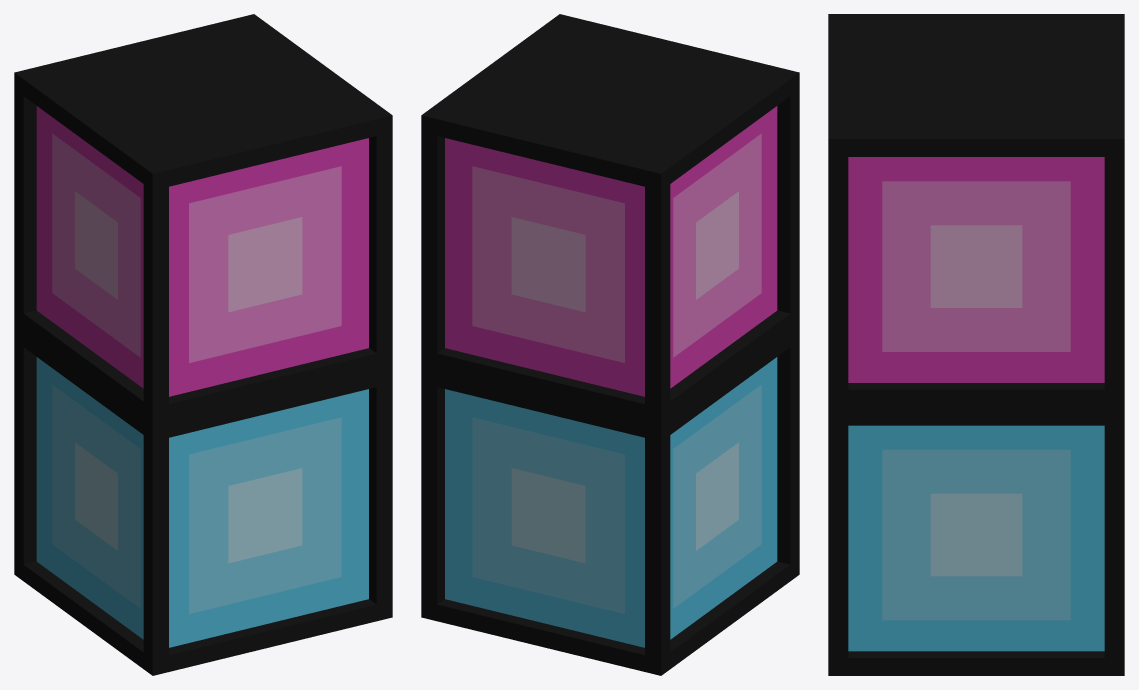
File: Nightclub_LightBox.fbx
3 renders of one model, left to right at view 1: azimuth 30°, elevation 25°; view 2: azimuth 150°, elevation 25°; view 3: azimuth 270°, elevation 25°, orthographic. The views are drawn at different scales.
Parts seen in each view (by area): view 1: Cube.653; view 2: Cube.653; view 3: Cube.653.
Part boxes in pixels (x1,y1,x2,y2): Cube.653: (14, 14, 392, 675); Cube.653: (421, 14, 799, 675); Cube.653: (828, 14, 1124, 675).
Bounding box in the file's own units: 200 × 400 × 200.
